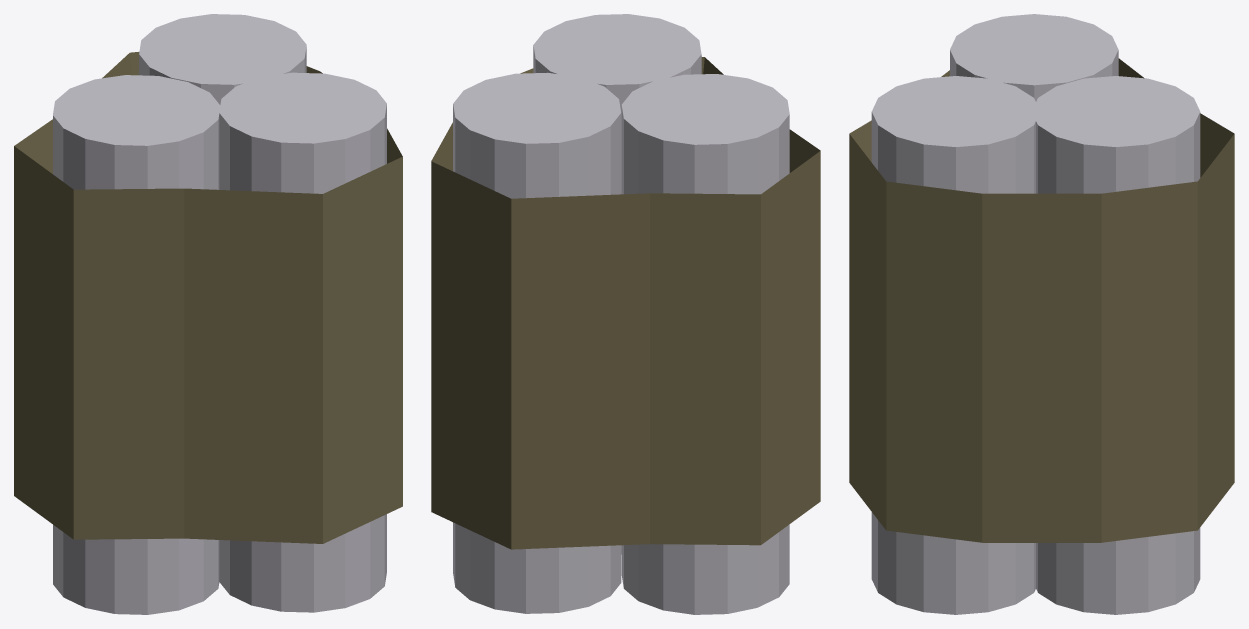
Rendered from бинты (3).fbx.
3 renders of one model, left to right at view 1: azimuth 30°, elevation 25°; view 2: azimuth 150°, elevation 25°; view 3: azimuth 270°, elevation 25°, orthographic.
Visible parts, largest first — view 1: Цилиндр.002; view 2: Цилиндр.002; view 3: Цилиндр.002.
Boxes of the visible parts, x1=… form: Цилиндр.002: x1=14, y1=14, x2=402, y2=614; Цилиндр.002: x1=431, y1=14, x2=820, y2=614; Цилиндр.002: x1=849, y1=14, x2=1234, y2=614.
Size of the model in its own units: 183 by 268 by 200.
